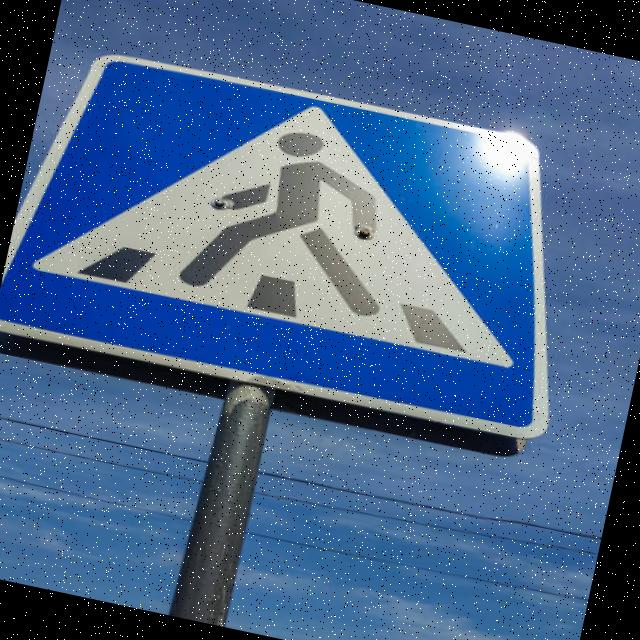crosswalk: (0, 11, 615, 473)
